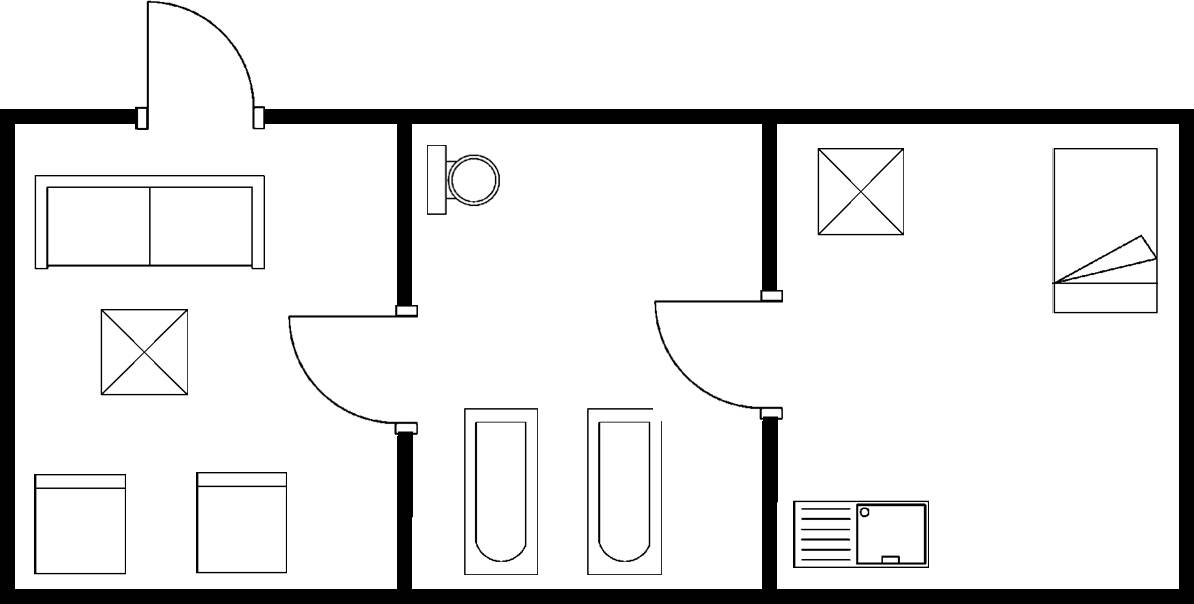bed: (1043, 140, 1167, 321)
coffee_table: (810, 140, 912, 245), (95, 304, 196, 401)
large_sink: (421, 138, 505, 221)
large_sofa: (29, 166, 273, 278)
sink: (788, 494, 935, 573)
small_sofa: (25, 467, 134, 579), (190, 463, 291, 579)
tub: (579, 401, 673, 582), (455, 402, 545, 582)
